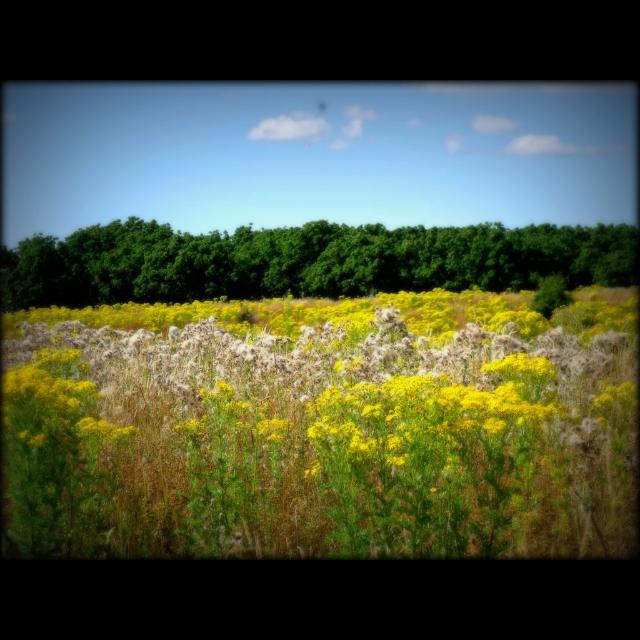Flower: (1, 285, 640, 495)
